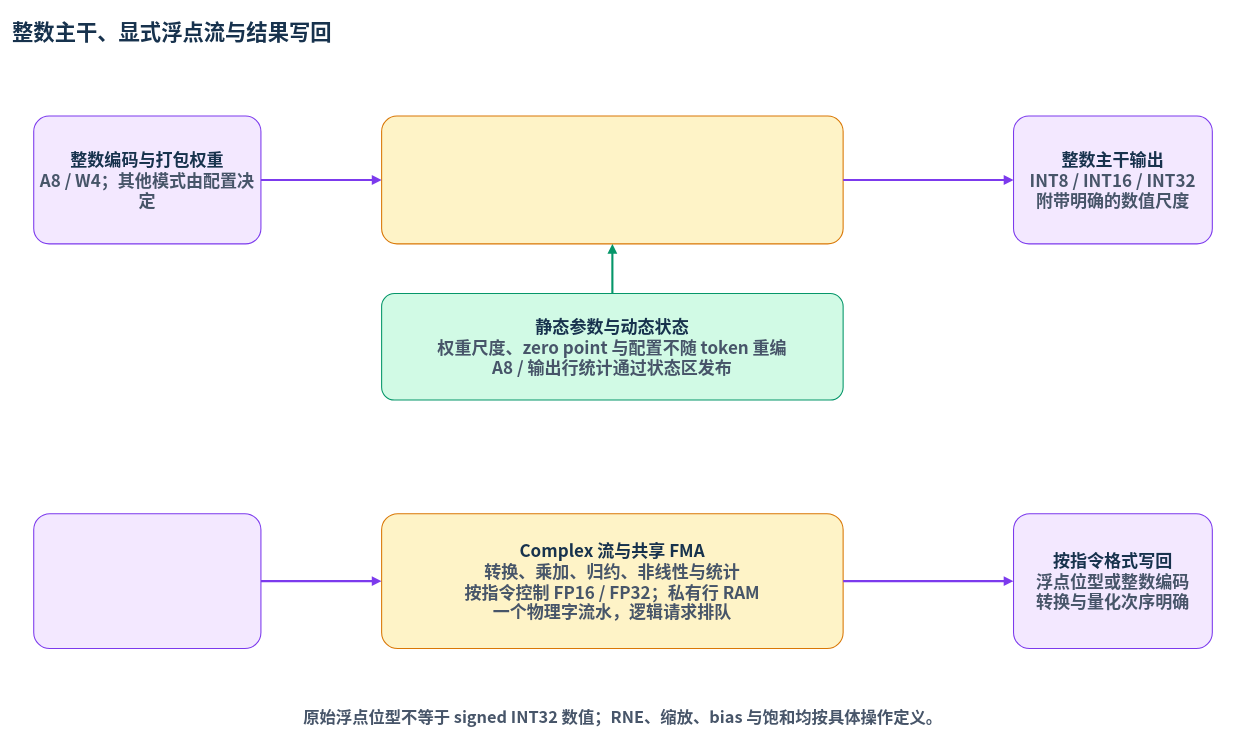
Image size: 1245x743. Some labels were removed from this diagram. The centre of each missing label's shape, as x and y in pixels:
"Matrix 整数阵列与组缩放 整数部分和、零点校正、公共指数宽累加 整行输出尺度、最终一次 RNE 和饱和" belongs at point (612, 179).
"显式浮点位型 binary32 使用 INT32 容器 packed binary16 使用格式标志" belongs at point (147, 581).
